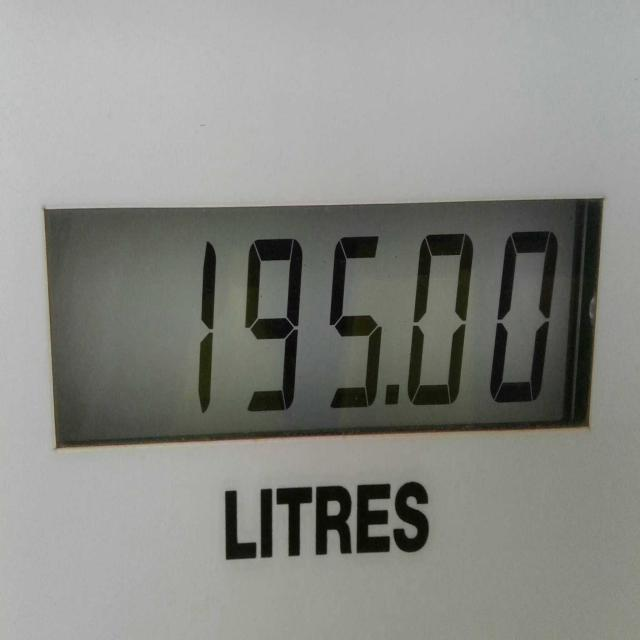.: (380, 372, 404, 416)
0: (400, 227, 477, 414), (488, 232, 562, 409)
1: (187, 233, 230, 417)
5: (316, 229, 390, 408)
9: (238, 232, 319, 414)
